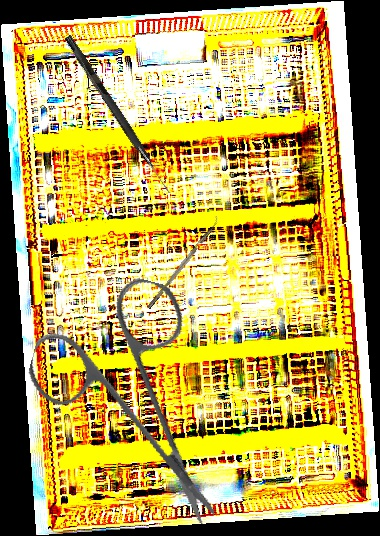Chopper: (143, 214, 222, 310)
Hook Surgical: (62, 34, 175, 196)
Iris Scissors: (2, 256, 268, 527)
